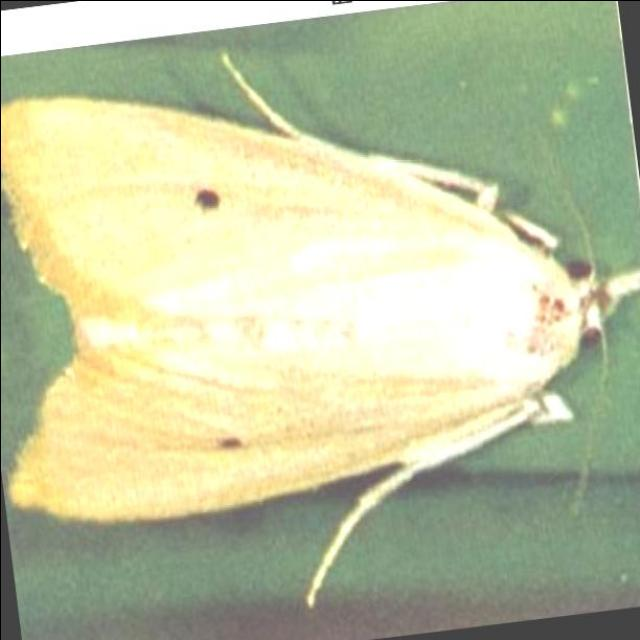stem borer: (0, 54, 640, 605)
